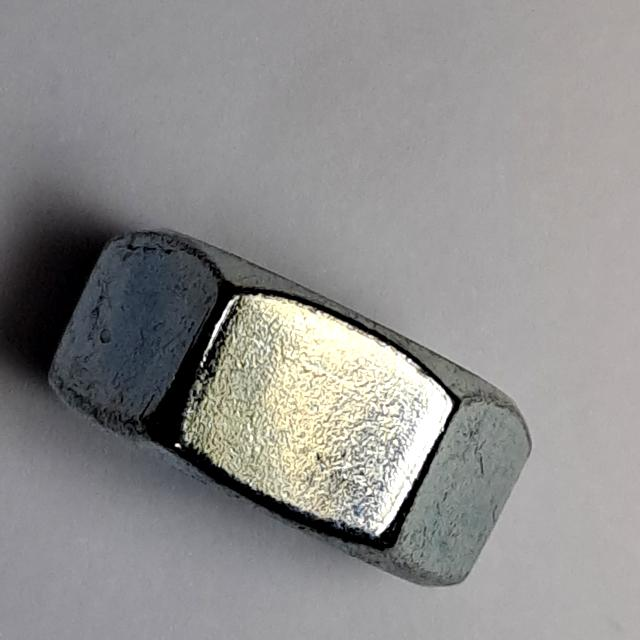Side_Excellent: (38, 209, 556, 598)
